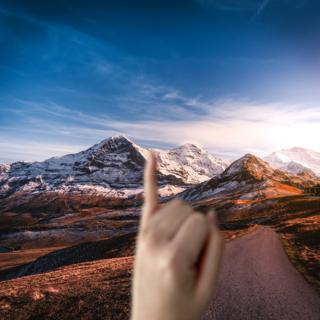FINE: (121, 148, 230, 320)
